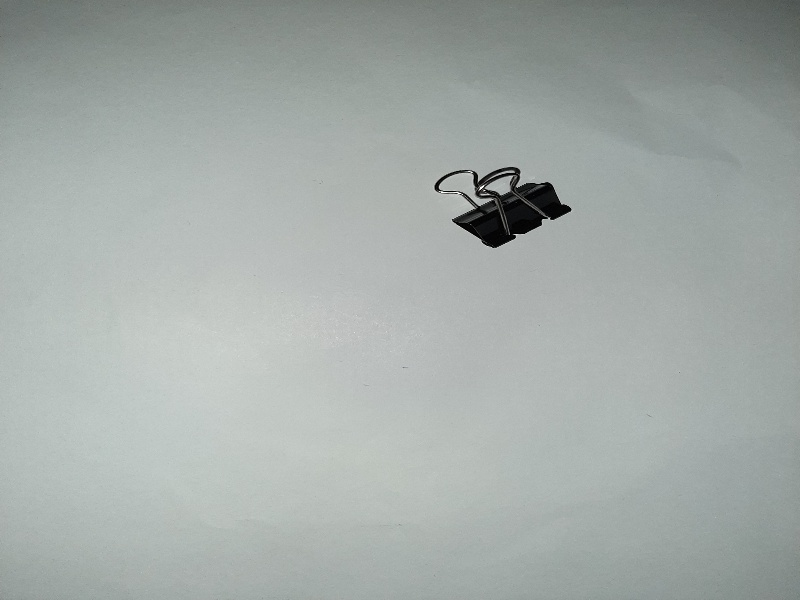Big Paperclip: (431, 166, 574, 249)
